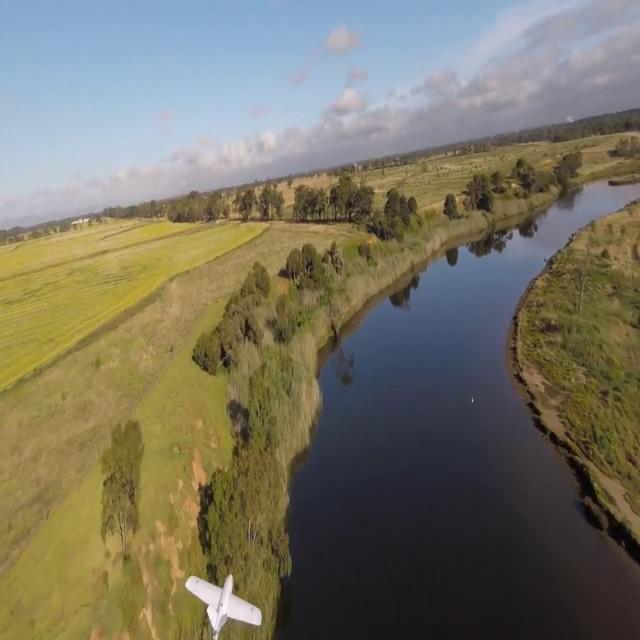iha: (216, 571, 233, 625)
